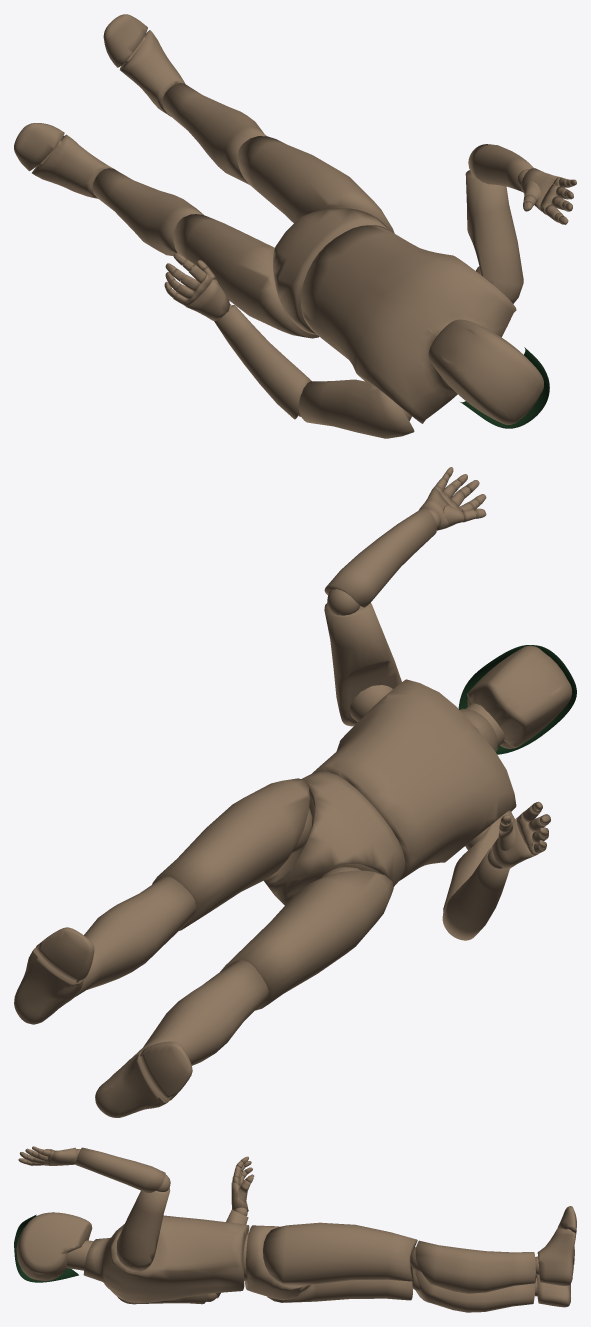
Rendered from base_character1.obj.
3 renders of one model, top to bottom at view 1: azimuth 30°, elevation 25°; view 2: azimuth 150°, elevation 25°; view 3: azimuth 270°, elevation 25°, orthographic. The views are drawn at different scales.
Parts seen in each view (by area): view 1: mannequin.0005, s.0011; view 2: mannequin.0005, s.0011; view 3: mannequin.0005, s.0011.
Boxes of the visible parts, x1,y1,x2,y2 form: mannequin.0005: (14,14,576,438); s.0011: (460,347,549,428); mannequin.0005: (14,467,572,1117); s.0011: (458,645,576,754); mannequin.0005: (16,1146,576,1312); s.0011: (14,1214,78,1282).
Bounding box in the file's own units: 0.645 × 0.6846 × 1.73.
